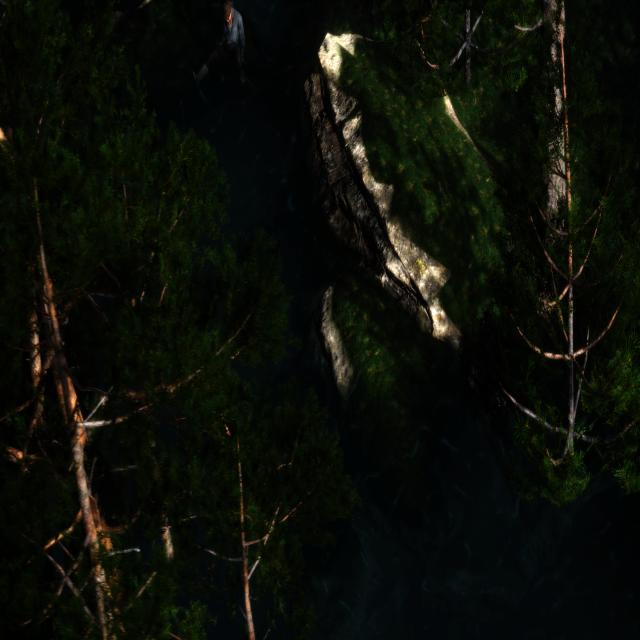Human: (186, 0, 250, 100)
